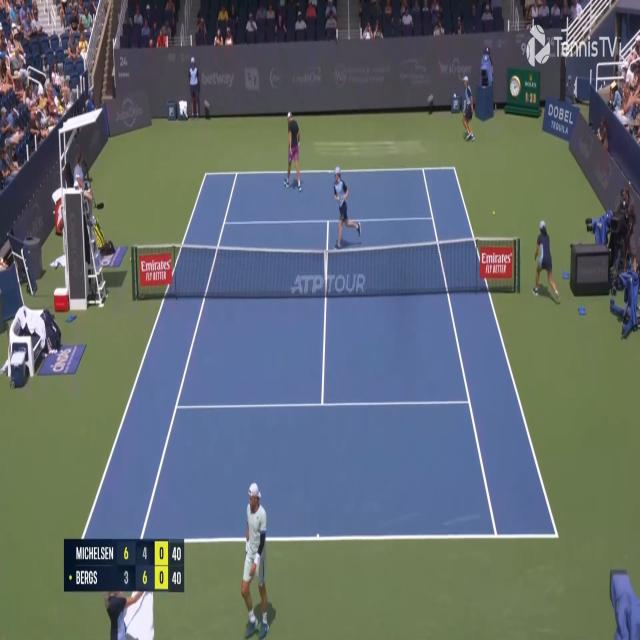tennis-player: (239, 480, 275, 639), (282, 108, 302, 191)
